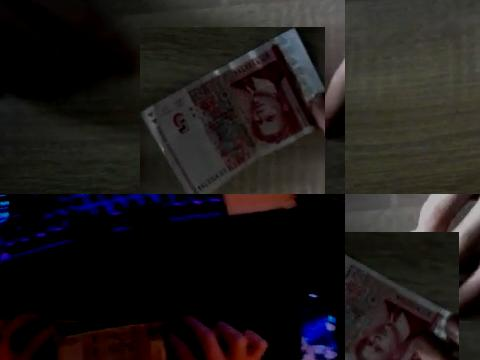50leva: (54, 322, 169, 360)
5leva: (140, 27, 325, 194), (345, 251, 459, 360)
